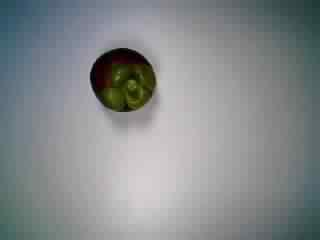mangosteen: (83, 43, 160, 122)
